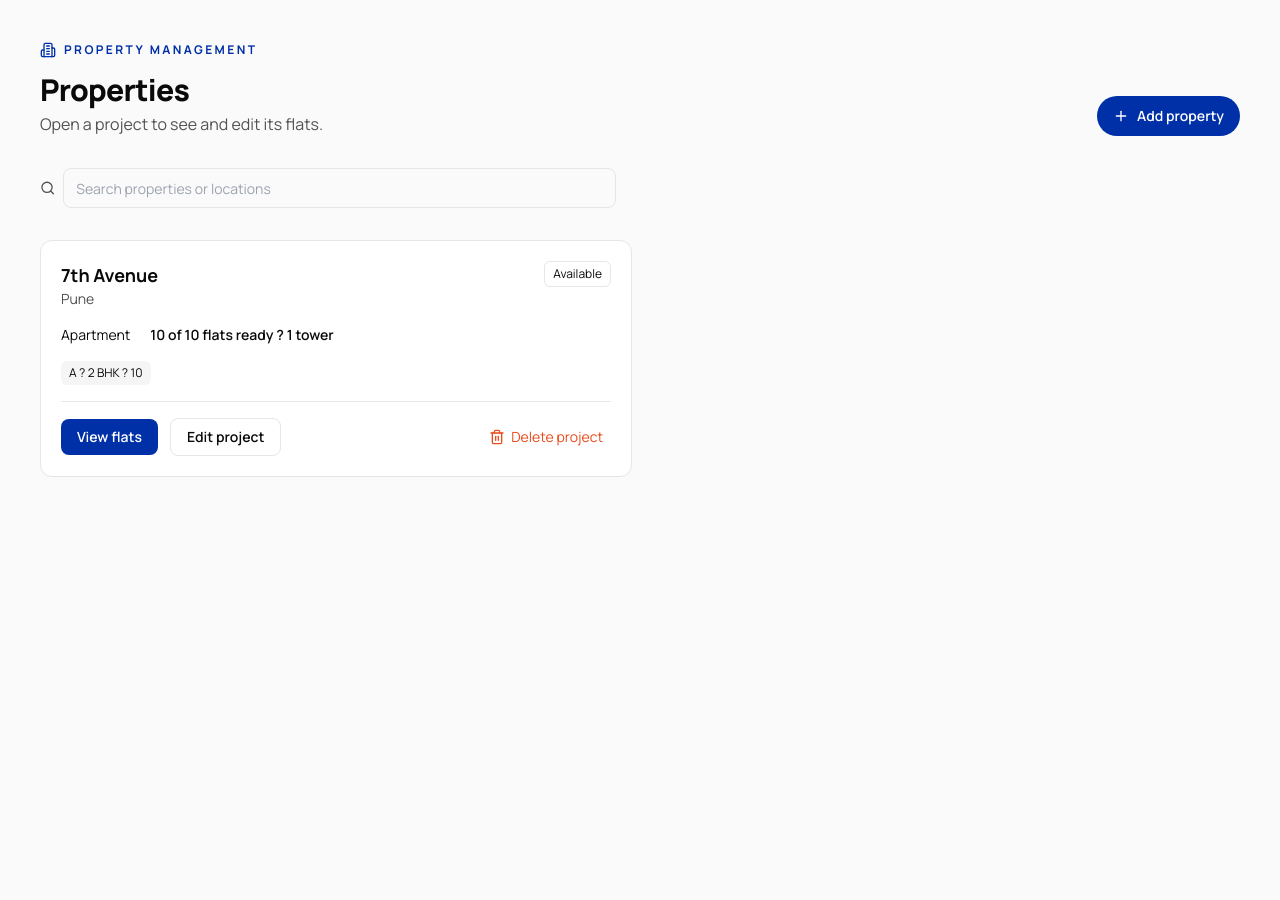
Scenario: explains what project deletion removes before sending it
Later steps or results of the test are not shown.
Click the button "Delete project" at coordinates (546, 437), box [481, 419, 611, 455]
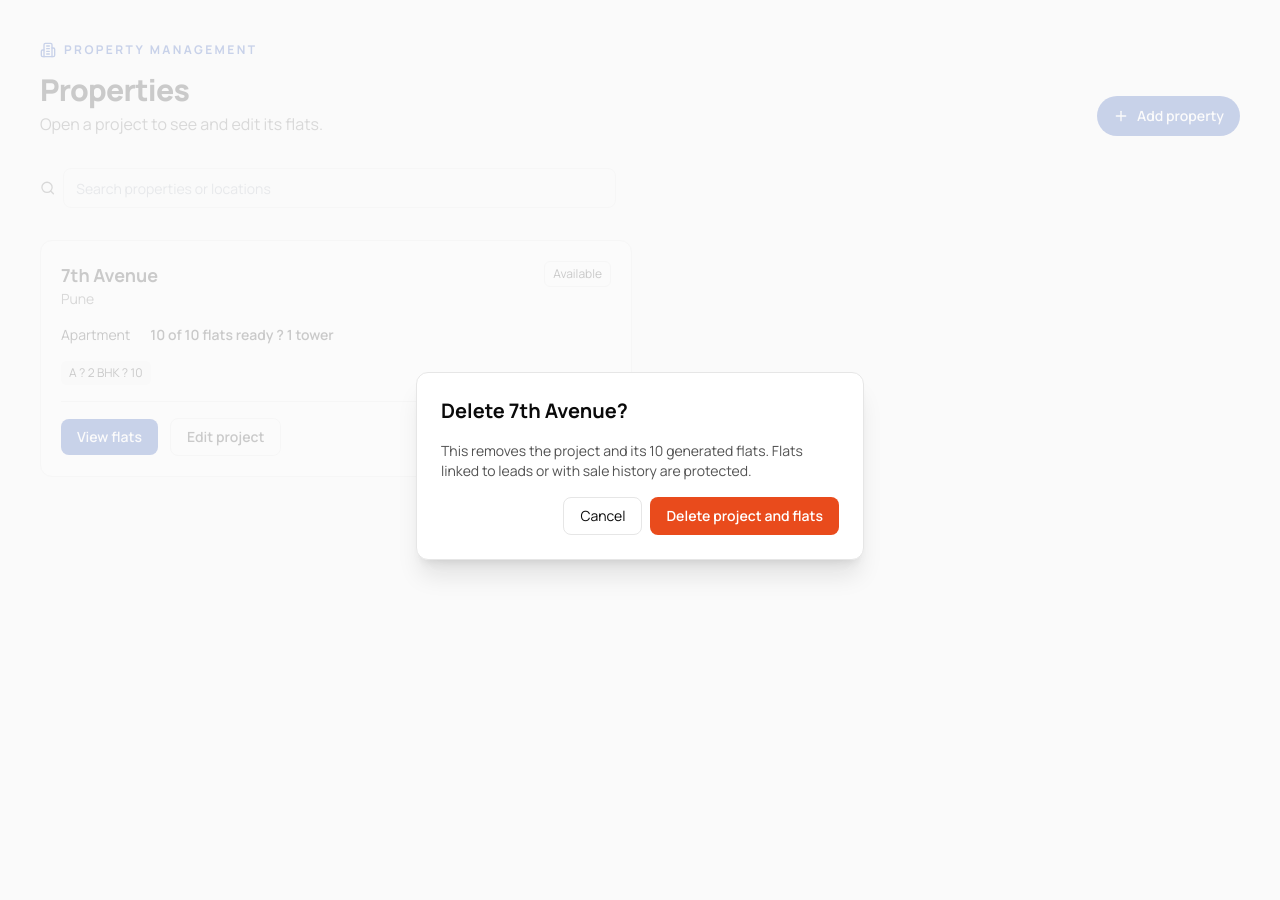
Expected: the dialog named "Delete property" shows "10 generated flats"
